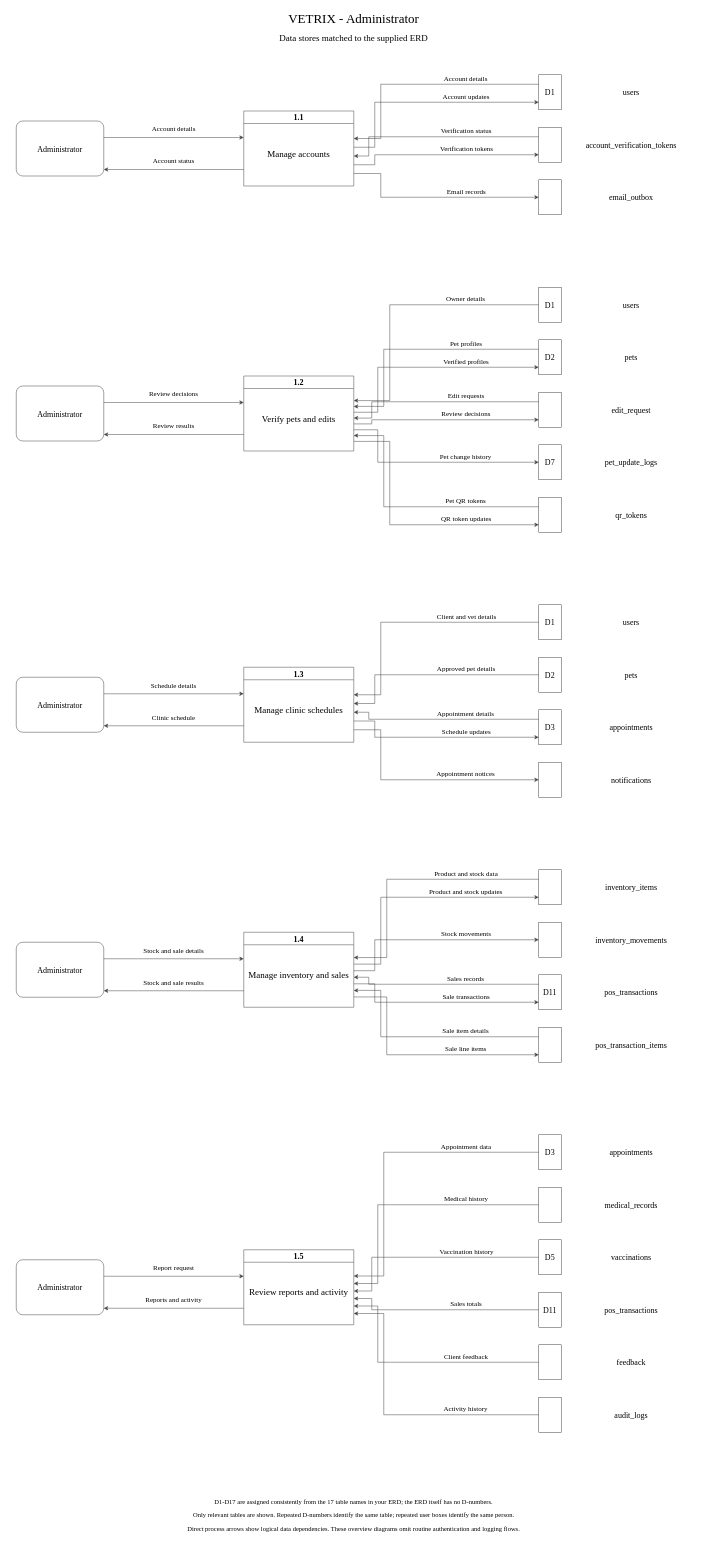
Image size: 710x1543. Some labels were removed from this diagram. The centre of each missing label's shape, as x and y in pixels:
D10: [549,939]
D12: [549,1044]
D13: [549,779]
D14: [549,1362]
D15: [549,144]
D16: [549,197]
D17: [549,1414]
D4: [549,1204]
D6: [549,409]
D8: [549,514]
D9: [549,887]
